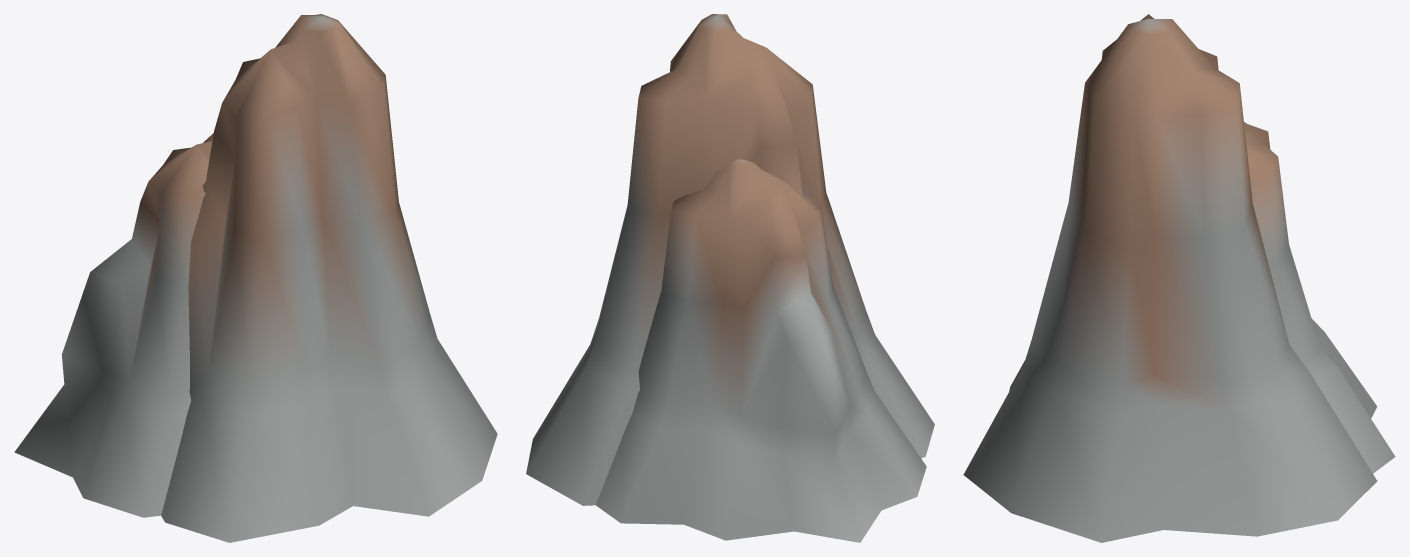
3 views of the same model, side by side, from view 1: azimuth 30°, elevation 25°; view 2: azimuth 150°, elevation 25°; view 3: azimuth 270°, elevation 25° (orthographic). The views are drawn at different scales.
Parts seen in each view (by area): view 1: G:\FFXIV-MapTools\exports\s1f6\bg\ffxiv\sea_s1\fld\s1f5\bgpa (×2); view 2: G:\FFXIV-MapTools\exports\s1f6\bg\ffxiv\sea_s1\fld\s1f5\bgpa (×2); view 3: G:\FFXIV-MapTools\exports\s1f6\bg\ffxiv\sea_s1\fld\s1f5\bgpa (×2).
Boxes of the visible parts, x1=… form: G:\FFXIV-MapTools\exports\s1f6\bg\ffxiv\sea_s1\fld\s1f5\bgpa (×2): x1=14, y1=14, x2=497, y2=542; G:\FFXIV-MapTools\exports\s1f6\bg\ffxiv\sea_s1\fld\s1f5\bgpa (×2): x1=526, y1=14, x2=934, y2=542; G:\FFXIV-MapTools\exports\s1f6\bg\ffxiv\sea_s1\fld\s1f5\bgpa (×2): x1=963, y1=14, x2=1395, y2=542.
Bounding box in the file's own units: 6.61 × 7.25 × 6.34.
